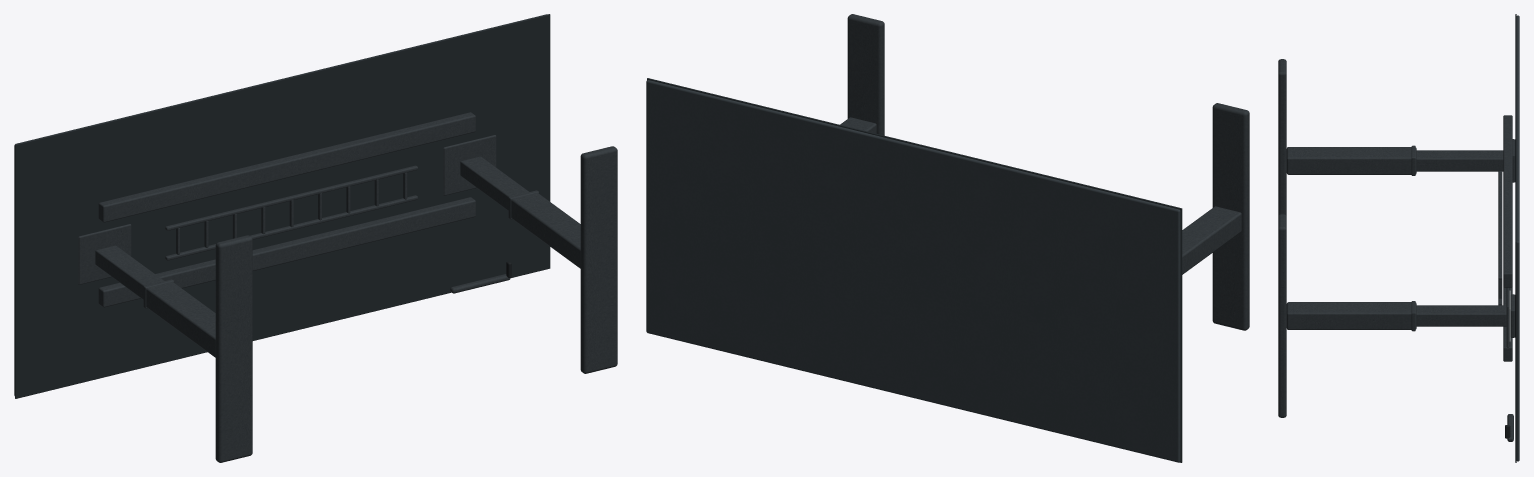
The model's file is desk.glb.
3 renders of one model, left to right at view 1: azimuth 30°, elevation 25°; view 2: azimuth 150°, elevation 25°; view 3: azimuth 270°, elevation 25°, orthographic. The views are drawn at different scales.
Parts seen in each view (by area): view 1: DeskAssembly_ComponentAuthored; view 2: DeskAssembly_ComponentAuthored; view 3: DeskAssembly_ComponentAuthored.
Part boxes in pixels (x1,y1,x2,y2): DeskAssembly_ComponentAuthored: (14,14,617,462); DeskAssembly_ComponentAuthored: (646,14,1249,462); DeskAssembly_ComponentAuthored: (1278,14,1519,462).
Bounding box in the file's own units: 66 × 30 × 29.61.
5 materials, 2 textured.
